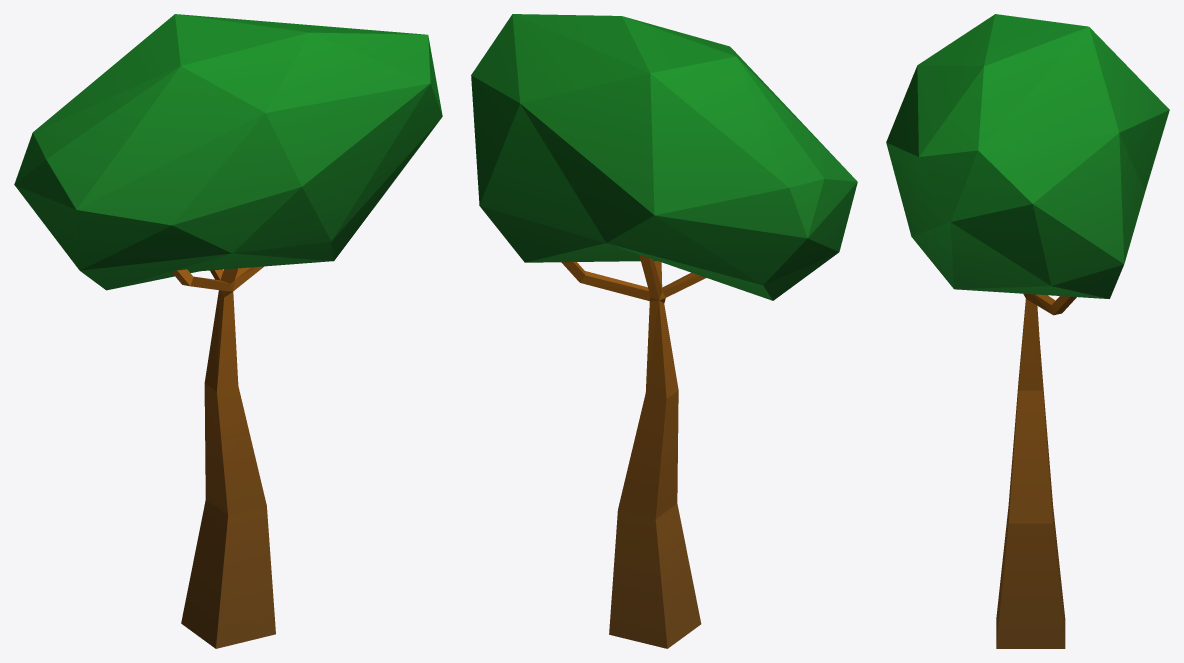
File: Tree_6.fbx
The picture shows the model from 3 angles, left to right: view 1: azimuth 30°, elevation 25°; view 2: azimuth 150°, elevation 25°; view 3: azimuth 270°, elevation 25°; orthographic projection. The views are drawn at different scales.
Parts seen in each view (by area): view 1: Tree_6; view 2: Tree_6; view 3: Tree_6.
Boxes of the visible parts, left/top/right/bottom form: Tree_6: left=14, top=14, right=442, bottom=648; Tree_6: left=471, top=14, right=857, bottom=648; Tree_6: left=886, top=14, right=1169, bottom=648.
Size of the model in its own units: 537 by 823 by 355.
